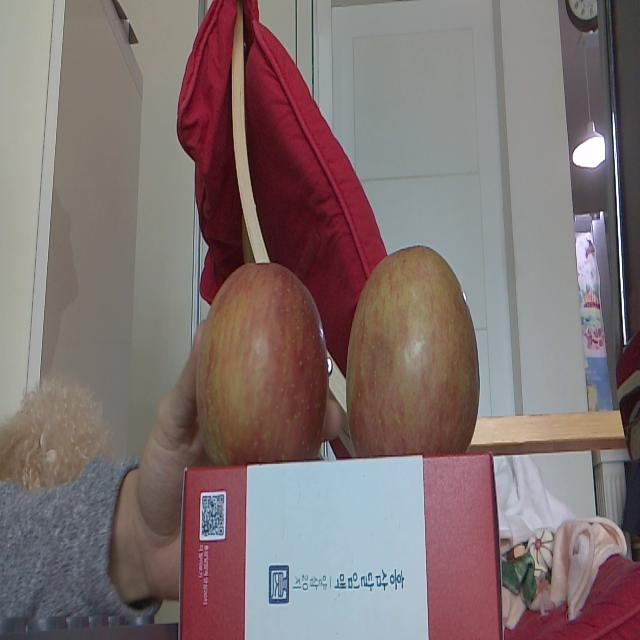apple: (195, 253, 328, 468), (346, 242, 480, 454)
